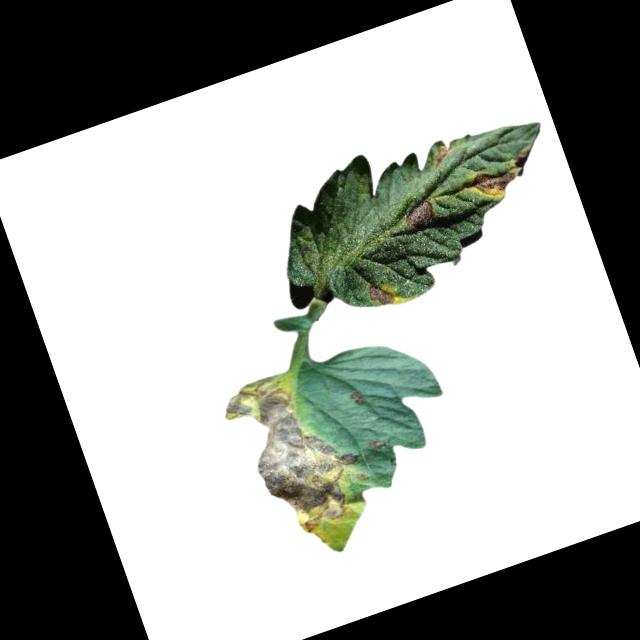Early_blight: (217, 356, 378, 543), (465, 158, 524, 206), (396, 197, 436, 233), (365, 276, 401, 309), (429, 140, 453, 167), (364, 434, 386, 454), (347, 385, 367, 407)
